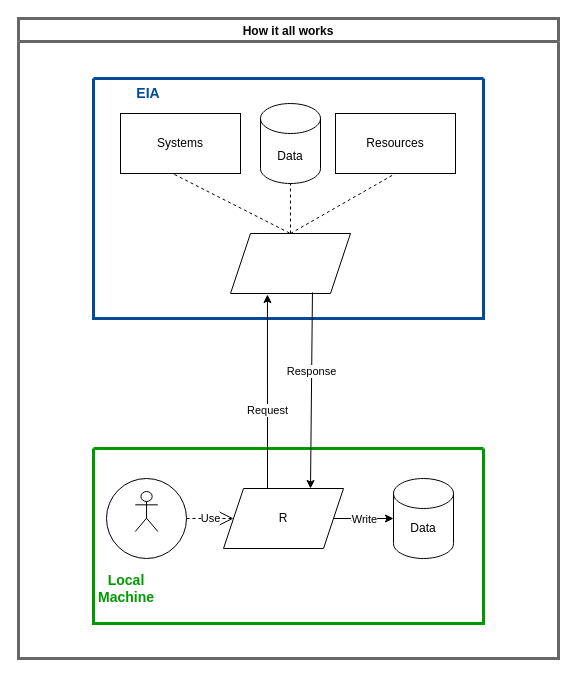
Image size: 577x677. Some labels were removed from this diagram. The box of each missing label's shape, as (x1, y1, x2, y2) in pixels:
API: (230, 232, 350, 294)
Me: (134, 490, 158, 532)
